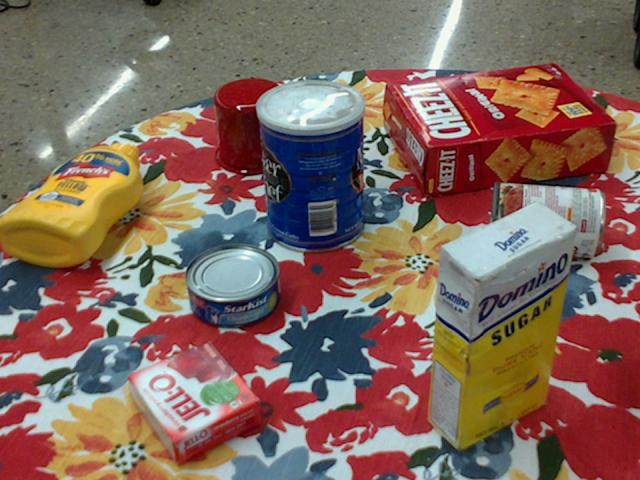cracker_box: (386, 65, 616, 197)
gelatin_box: (129, 343, 263, 469)
master_chef_can: (256, 79, 365, 253)
mug: (213, 78, 312, 175)
mustard_bottle: (0, 143, 142, 266)
sugar_box: (429, 200, 577, 453)
tomato_soup_can: (491, 181, 606, 255)
tuna_fish_can: (184, 245, 280, 329)
